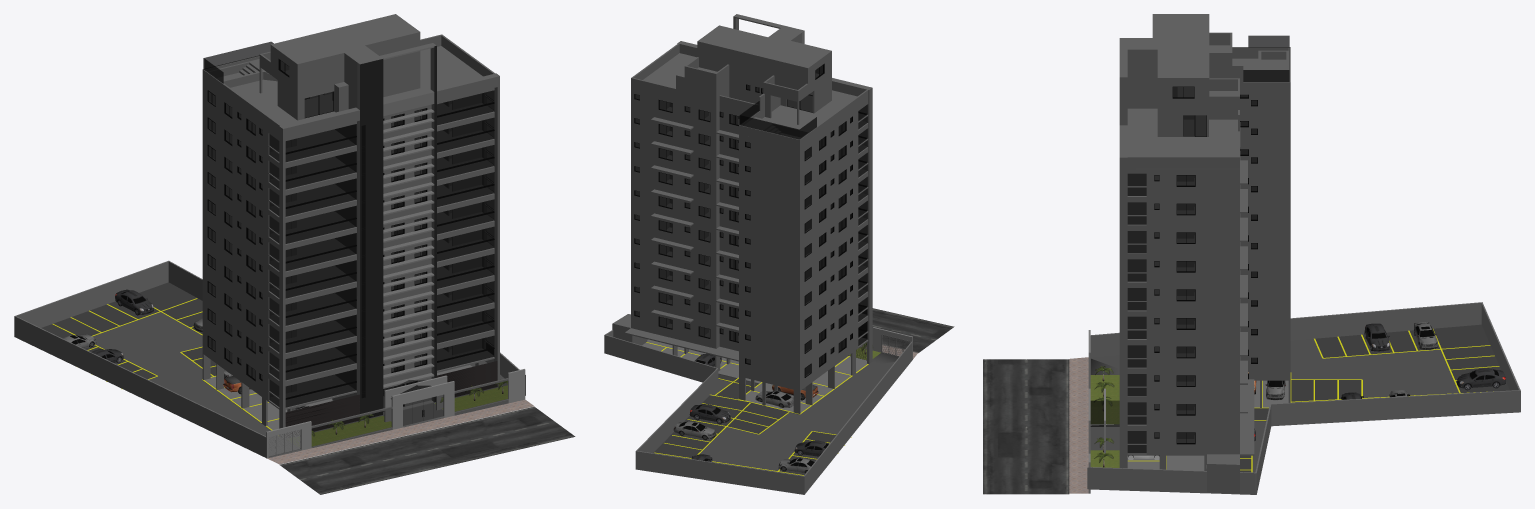
3 views of the same model, side by side, from view 1: azimuth 30°, elevation 25°; view 2: azimuth 150°, elevation 25°; view 3: azimuth 270°, elevation 25° (orthographic). The views are drawn at different scales.
Parts seen in each view (by area): view 1: Shape005, Object024_Material #2416_0, Shape026, Object014_Material #53_0, Object019_Material #78_0, Object002_Material #1337_0, Plane002, Layer:P06, Object023_Material #2415_0, Shape018, Plane003, Object004_grama_0 (+50 smaller); view 2: Shape005, Shape026, Object002_Material #1337_0, Plane002, Layer:P06, Shape018, Box040, Object024_Material #2416_0, Layer:P03, Box018, Box019, Shape023 (+13 smaller); view 3: Shape005, Shape026, Object024_Material #2416_0, Object002_Material #1337_0, Plane002, Shape018, Plane003, Layer:P06, Object004_grama_0, Box018, Layer:P03, Box040 (+10 smaller).
Part boxes in pixels (left/top/right/bottom): Shape005: left=202, top=34, right=499, bottom=437; Object024_Material #2416_0: left=280, top=406, right=575, bottom=494; Shape026: left=14, top=260, right=525, bottom=457; Object014_Material #53_0: left=360, top=45, right=436, bottom=419; Object019_Material #78_0: left=383, top=46, right=434, bottom=388; Object002_Material #1337_0: left=92, top=312, right=507, bottom=457; Plane002: left=41, top=282, right=216, bottom=379; Layer:P06: left=270, top=33, right=434, bottom=93; Object023_Material #2415_0: left=285, top=102, right=494, bottom=399; Shape018: left=259, top=62, right=434, bottom=120; Plane003: left=267, top=399, right=533, bottom=464; Object004_grama_0: left=291, top=385, right=507, bottom=446; Shape005: left=612, top=41, right=872, bottom=413; Shape026: left=604, top=330, right=912, bottom=494; Object002_Material #1337_0: left=647, top=339, right=898, bottom=470; Plane002: left=653, top=374, right=835, bottom=475; Layer:P06: left=697, top=17, right=831, bottom=93; Shape018: left=676, top=75, right=831, bottom=124; Box040: left=642, top=339, right=868, bottom=414; Object024_Material #2416_0: left=872, top=308, right=954, bottom=352; Layer:P03: left=684, top=57, right=807, bottom=100; Box018: left=697, top=25, right=767, bottom=53; Box019: left=767, top=41, right=831, bottom=69; Shape023: left=739, top=101, right=816, bottom=139; Shape005: left=1119, top=47, right=1290, bottom=493; Shape026: left=1087, top=302, right=1520, bottom=494; Object024_Material #2416_0: left=983, top=359, right=1069, bottom=494; Object002_Material #1337_0: left=1090, top=339, right=1458, bottom=472; Plane002: left=1240, top=324, right=1509, bottom=472; Shape018: left=1119, top=65, right=1243, bottom=136; Plane003: left=1069, top=357, right=1088, bottom=493; Layer:P06: left=1119, top=51, right=1209, bottom=108; Object004_grama_0: left=1090, top=375, right=1119, bottom=467; Box018: left=1157, top=49, right=1209, bottom=79; Layer:P03: left=1209, top=32, right=1239, bottom=108; Box040: left=1127, top=380, right=1288, bottom=470.
Bounding box in the file's own units: 1591 × 1645 × 2113.
41 materials, 9 textured.
